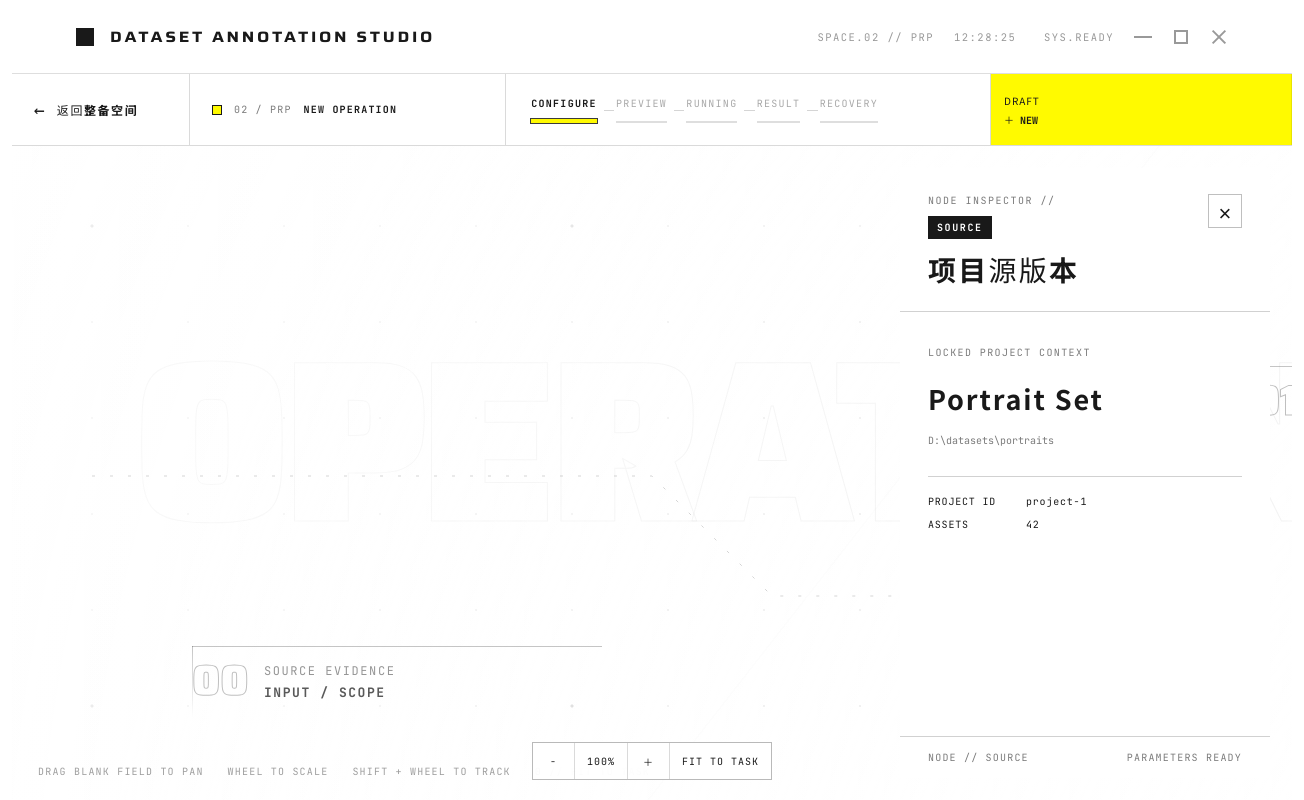
Test case: dial archive preparation pages › keeps the node inspector closed after its canvas occlusion is removed
This screenshot has width=1304, height=800.
Step 1. Click the button named "关闭节点检查器" → x=1225, y=211, box [1208,194,1242,228]
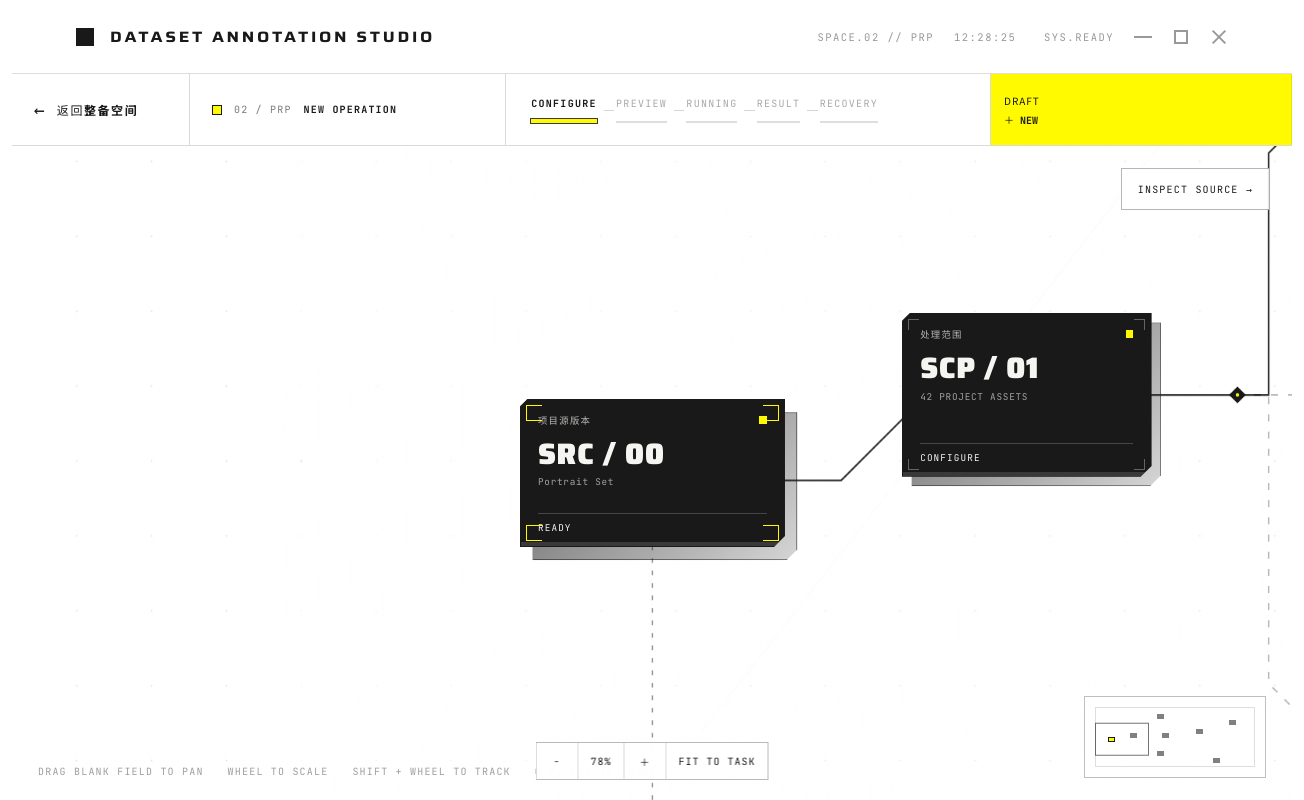
Check: the button "关闭节点检查器" is gone
Check: the button "INSPECT SOURCE →" is shown, box [1121,168,1270,210]
